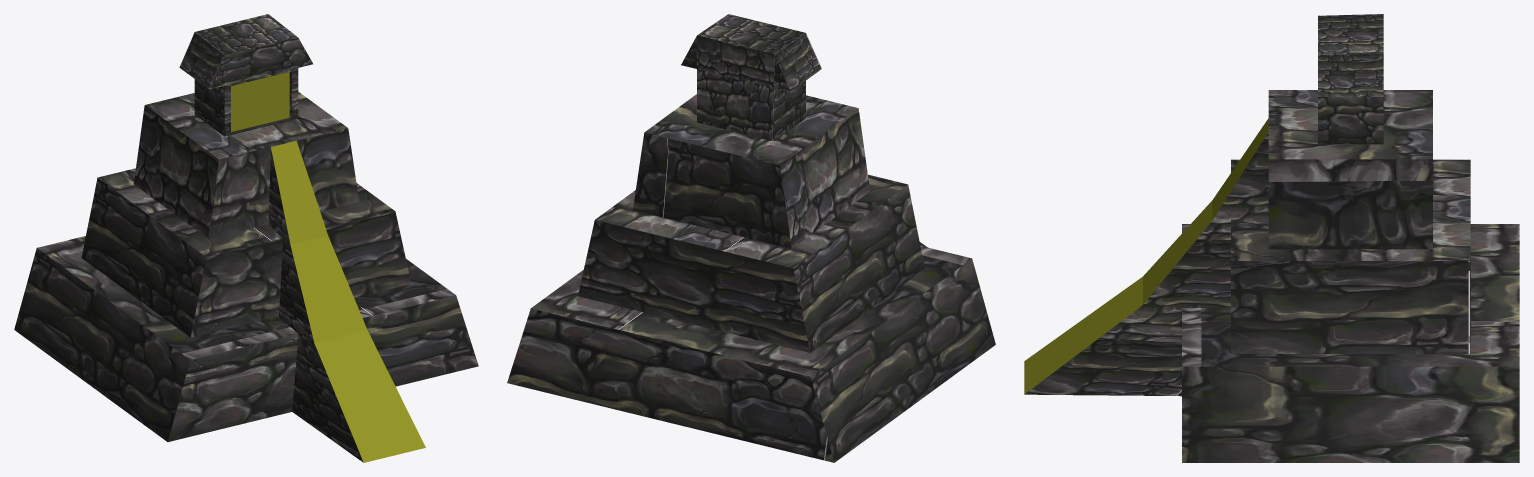
The model's file is Piramede1.obj.
The picture shows the model from 3 angles, left to right: view 1: azimuth 30°, elevation 25°; view 2: azimuth 150°, elevation 25°; view 3: azimuth 270°, elevation 25°; orthographic projection. The views are drawn at different scales.
Parts seen in each view (by area): view 1: Cube.002, escada.001, Cube.006, escada, Cube.007; view 2: Cube.002, Cube.006; view 3: Cube.002, escada, Cube.006, escada.001.
Boxes of the visible parts, x1=… form: Cube.002: x1=14, y1=92, x2=478, y2=441; escada.001: x1=271, y1=141, x2=425, y2=462; Cube.006: x1=179, y1=14, x2=313, y2=136; escada: x1=268, y1=148, x2=363, y2=462; Cube.007: x1=231, y1=72, x2=289, y2=131; Cube.002: x1=507, y1=94, x2=995, y2=462; Cube.006: x1=681, y1=14, x2=821, y2=141; Cube.002: x1=1182, y1=90, x2=1519, y2=462; escada: x1=1024, y1=132, x2=1268, y2=396; Cube.006: x1=1318, y1=14, x2=1383, y2=144; escada.001: x1=1024, y1=118, x2=1268, y2=394.
Size of the model in its own units: 45.02 by 43.46 by 56.45.
2 materials, 1 textured.
